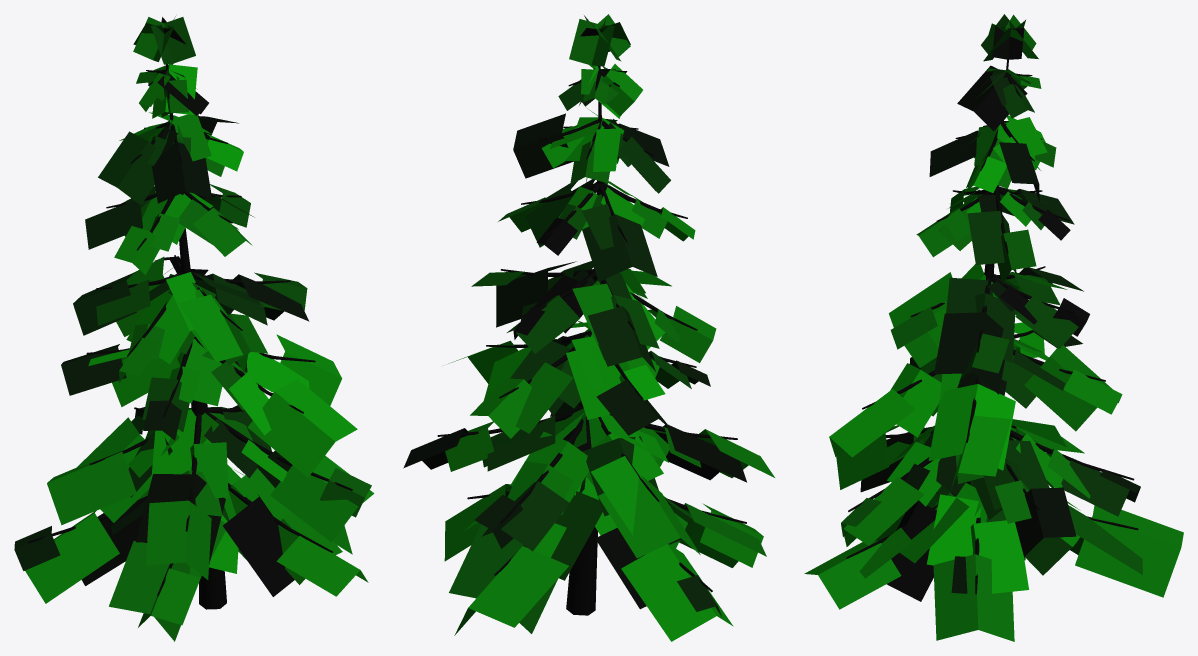
The model's file is ProcPine_19.fbx.
The picture shows the model from 3 angles, left to right: view 1: azimuth 30°, elevation 25°; view 2: azimuth 150°, elevation 25°; view 3: azimuth 270°, elevation 25°; orthographic projection. The views are drawn at different scales.
Parts seen in each view (by area): view 1: ProcPine_19_LOD0; view 2: ProcPine_19_LOD0; view 3: ProcPine_19_LOD0.
Part boxes in pixels (x1,y1,x2,y2): ProcPine_19_LOD0: (14, 16, 374, 641); ProcPine_19_LOD0: (403, 14, 774, 641); ProcPine_19_LOD0: (804, 14, 1183, 641).
Size of what is drawn, in the model's own units: 268 by 507 by 300.
